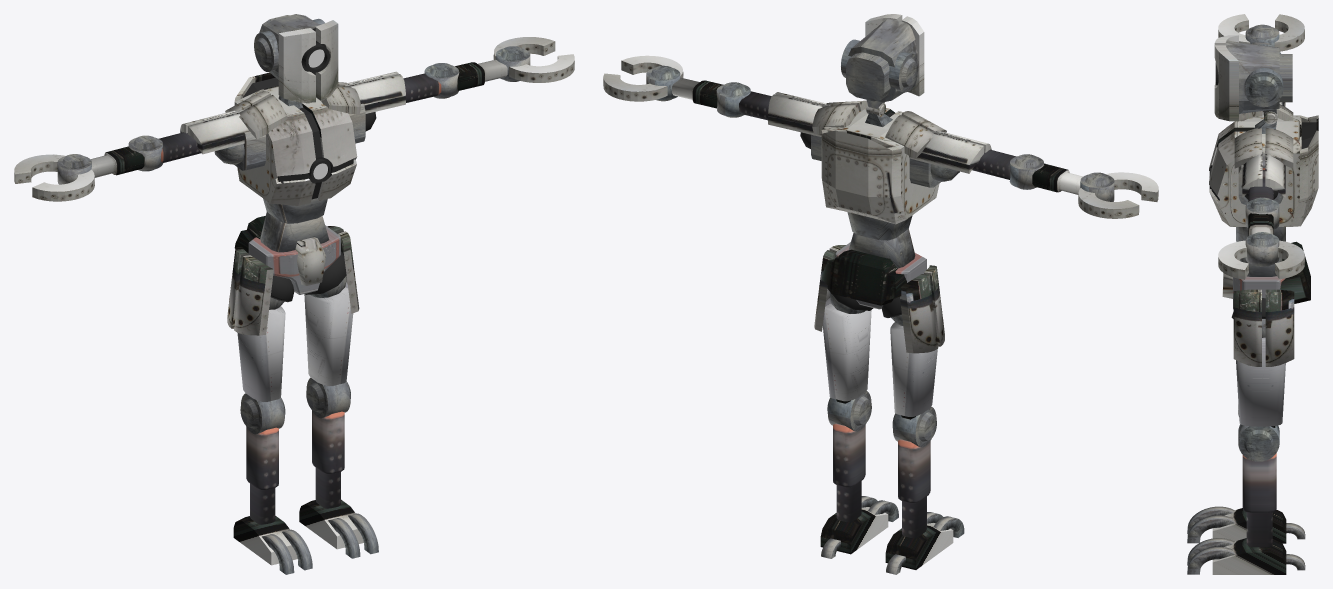
File: Robot 5 rig.fbx
The picture shows the model from 3 angles, left to right: view 1: azimuth 30°, elevation 25°; view 2: azimuth 150°, elevation 25°; view 3: azimuth 270°, elevation 25°; orthographic projection. The views are drawn at different scales.
Visible parts, largest first — view 1: Cube.017, Icosphere, Cube.005, Icosphere.001, Cylinder.003, Cylinder.004, Icosphere.004, Cylinder.008, Cube.013, Cube.015, Cube.002, Cylinder.017 (+5 smaller); view 2: Cube.017, Icosphere, Cube.005, Icosphere.001, Cylinder.004, Cylinder.003, Cube.029, Icosphere.004, Cylinder.008, Cube.013, Cube.015, Cylinder.017 (+5 smaller); view 3: Cube.017, Icosphere.001, Cube.005, Cylinder.004, Cube.013, Cylinder.017, Cube.015, Cylinder.008, Icosphere.005, Cylinder.018, Cube.029, Cube.002 (+3 smaller).
Part boxes in pixels (x1=…): Cube.017: x1=225, y1=72, x2=365, y2=205; Icosphere: x1=227, y1=247, x2=285, y2=401; Cube.005: x1=254, y1=14, x2=338, y2=103; Icosphere.001: x1=304, y1=226, x2=359, y2=385; Cylinder.003: x1=240, y1=393, x2=285, y2=524; Cylinder.004: x1=306, y1=377, x2=350, y2=508; Icosphere.004: x1=159, y1=109, x2=249, y2=164; Cylinder.008: x1=14, y1=154, x2=94, y2=201; Cube.013: x1=299, y1=499, x2=378, y2=558; Cube.015: x1=233, y1=516, x2=312, y2=574; Cube.002: x1=260, y1=198, x2=329, y2=252; Cylinder.017: x1=493, y1=37, x2=574, y2=82; Cube.017: x1=811, y1=100, x2=946, y2=224; Icosphere: x1=890, y1=265, x2=944, y2=419; Cube.005: x1=841, y1=14, x2=924, y2=102; Icosphere.001: x1=814, y1=245, x2=871, y2=403; Cylinder.004: x1=827, y1=391, x2=871, y2=522; Cylinder.003: x1=892, y1=406, x2=936, y2=537; Cube.029: x1=821, y1=249, x2=906, y2=305; Icosphere.004: x1=909, y1=129, x2=1016, y2=181; Cylinder.008: x1=1078, y1=172, x2=1158, y2=218; Cube.013: x1=820, y1=496, x2=898, y2=558; Cube.015: x1=885, y1=512, x2=964, y2=574; Cylinder.017: x1=603, y1=55, x2=683, y2=101; Cube.017: x1=1209, y1=104, x2=1318, y2=226; Icosphere.001: x1=1233, y1=289, x2=1294, y2=427; Cube.005: x1=1214, y1=35, x2=1292, y2=121; Cylinder.004: x1=1238, y1=424, x2=1279, y2=547; Cube.013: x1=1187, y1=538, x2=1305, y2=574; Cylinder.017: x1=1218, y1=232, x2=1304, y2=279; Cube.015: x1=1187, y1=506, x2=1305, y2=543; Cylinder.008: x1=1218, y1=14, x2=1304, y2=51; Icosphere.005: x1=1241, y1=145, x2=1285, y2=201; Cylinder.018: x1=1245, y1=197, x2=1279, y2=235; Cube.029: x1=1280, y1=241, x2=1310, y2=303; Cube.002: x1=1236, y1=227, x2=1285, y2=276.
Size of the model in its own units: 1436 by 1323 by 309.
